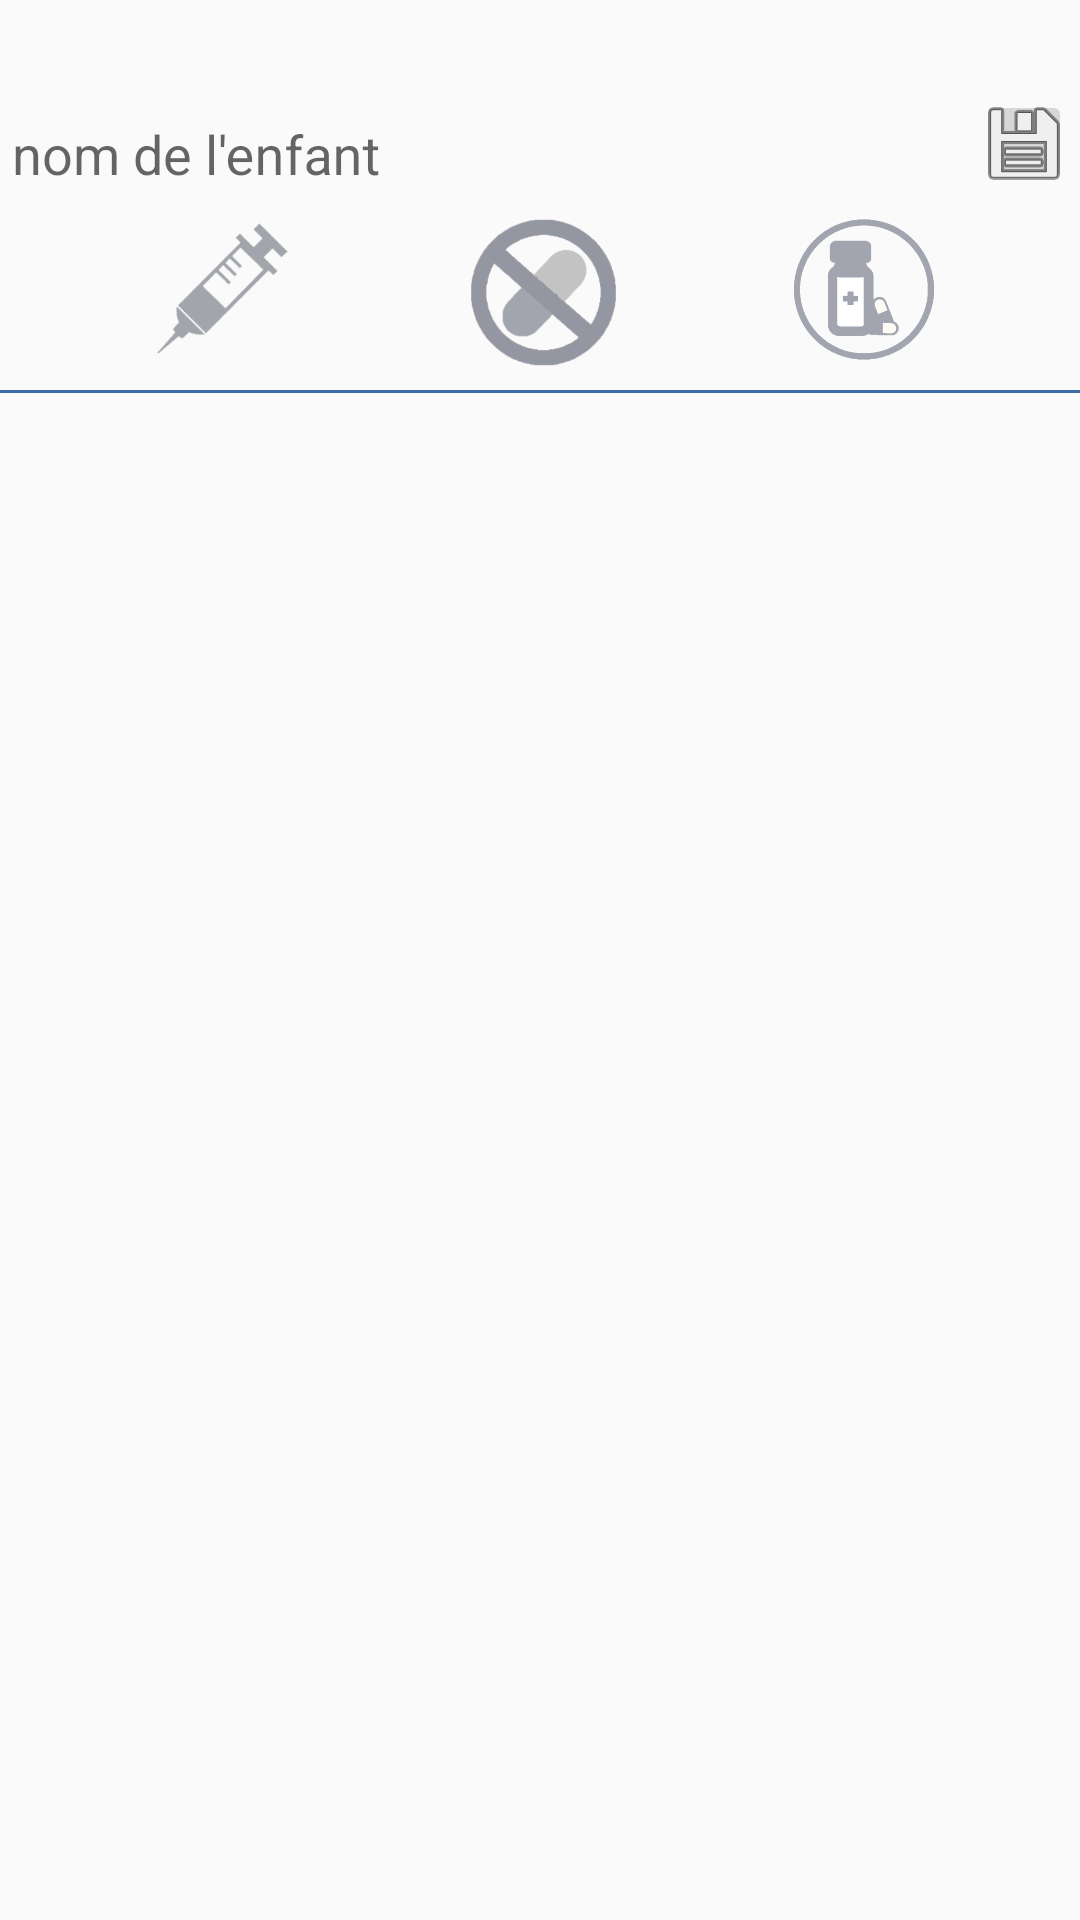

Where icons sit on this 1080 x 1920 app screen, as (x1, y1, x2, y2):
save: (988, 107, 1060, 180)
